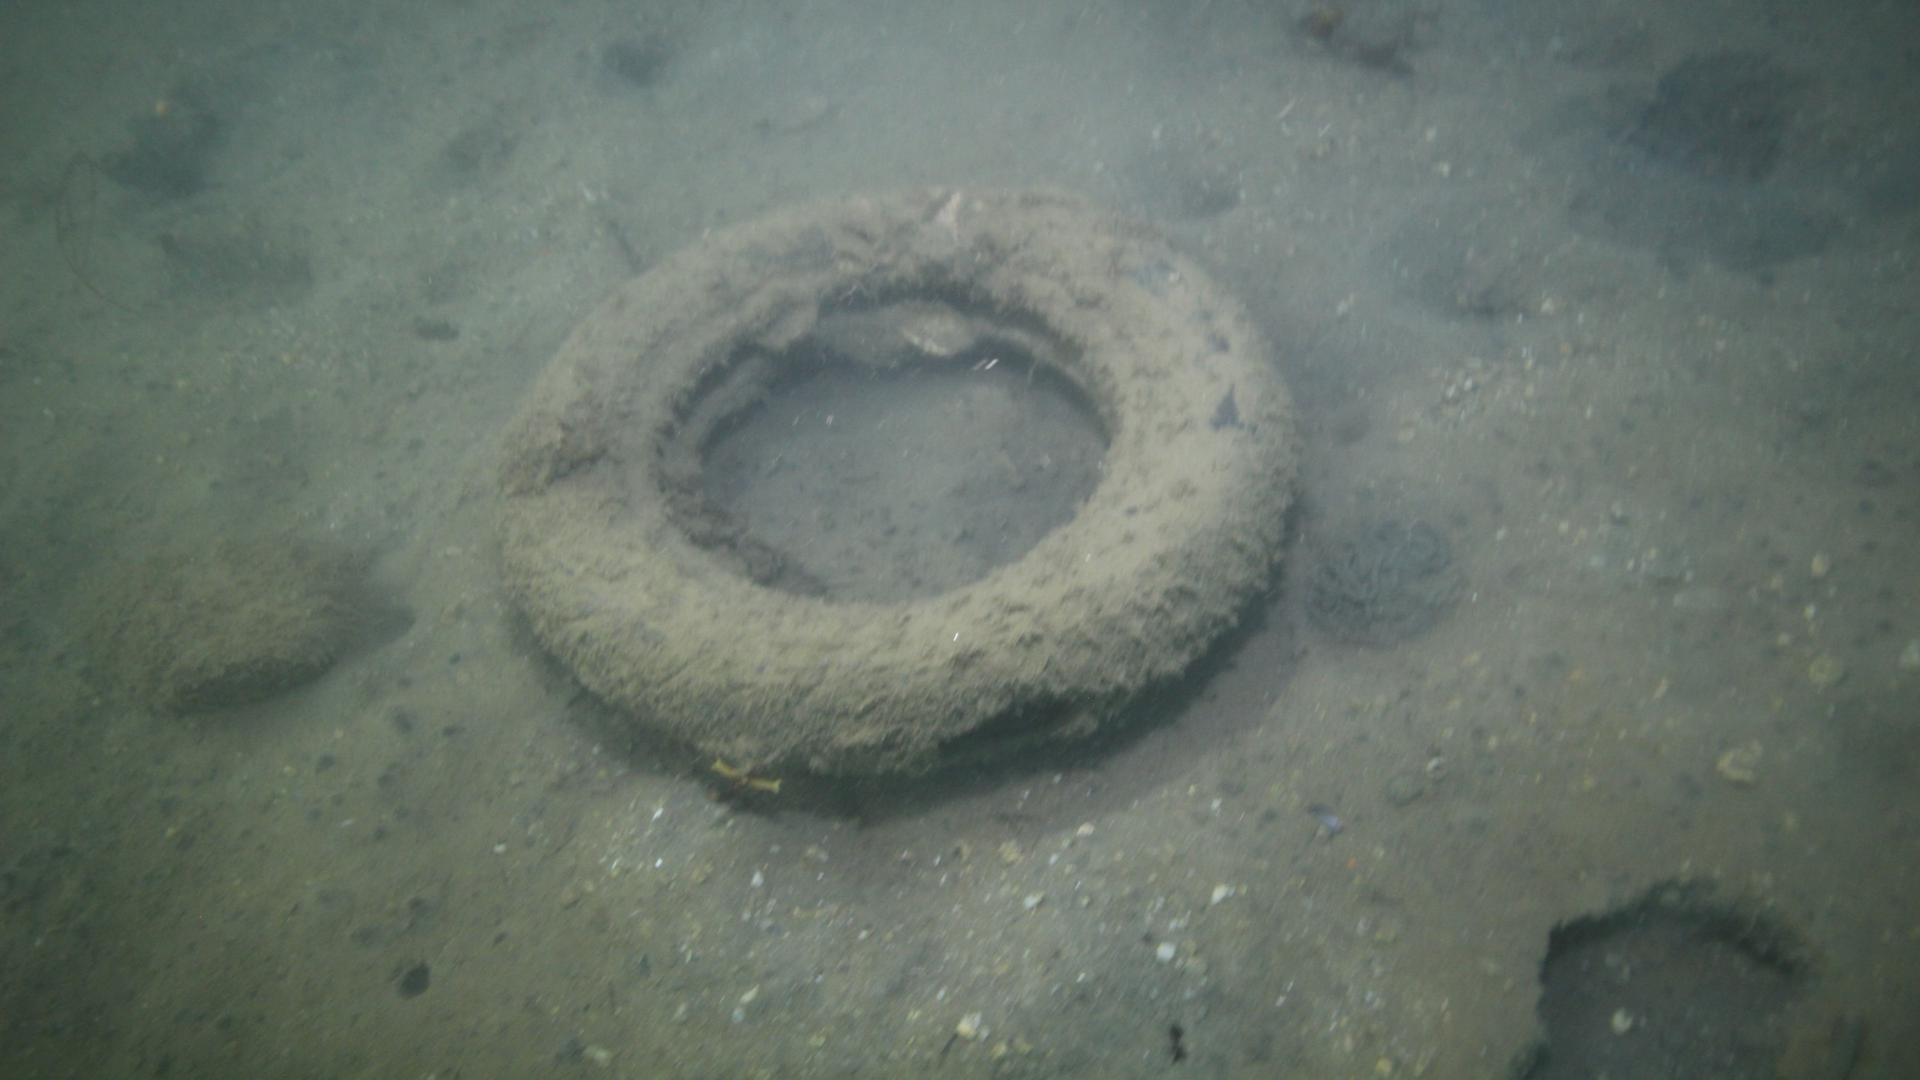tire: (495, 185, 1304, 775)
